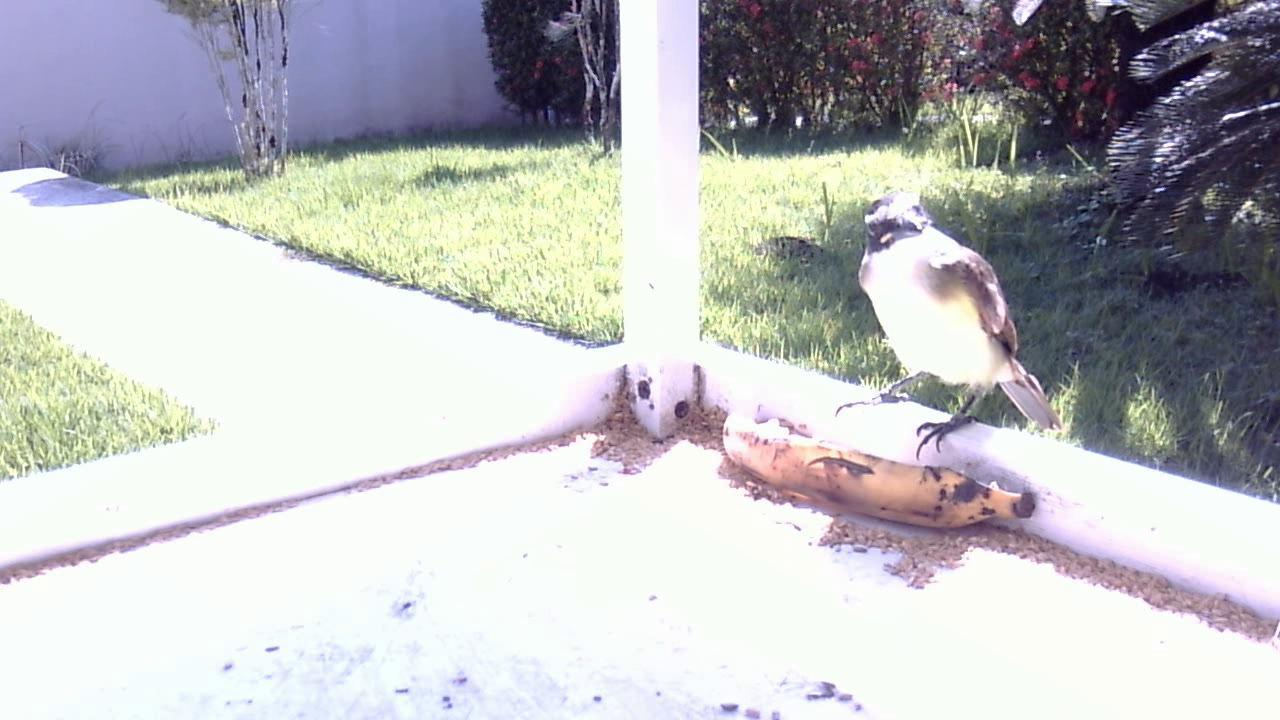bem_te_vi: (822, 184, 1067, 482)
